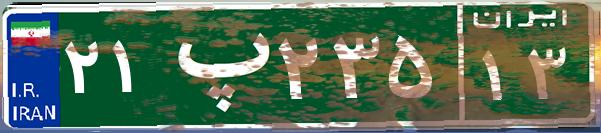1: (475, 38, 525, 113), (110, 28, 158, 105)
2: (273, 28, 330, 110), (57, 26, 110, 107)
3: (330, 28, 385, 110), (525, 38, 570, 115)
5: (385, 28, 445, 110)
پ: (158, 15, 273, 115)
